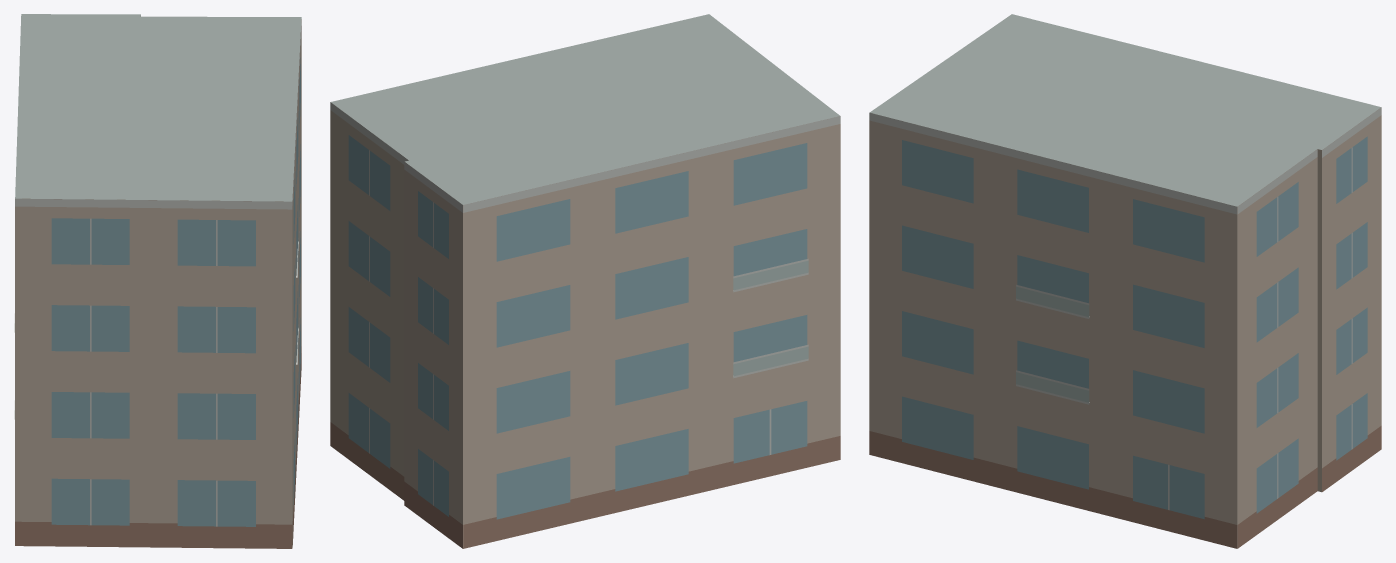
Rendered from survey-upis-32643084.glb.
3 views of the same model, side by side, from view 1: azimuth 30°, elevation 25°; view 2: azimuth 150°, elevation 25°; view 3: azimuth 270°, elevation 25° (orthographic).
Visible parts, largest first — view 1: survey-upis-32643084.tmp; view 2: survey-upis-32643084.tmp; view 3: survey-upis-32643084.tmp.
Part boxes in pixels (x1,y1,x2,y2): survey-upis-32643084.tmp: (14,14,301,548); survey-upis-32643084.tmp: (330,14,840,548); survey-upis-32643084.tmp: (869,14,1381,548).
Size of the model in its own units: 12.81 by 10.6 by 14.39.
